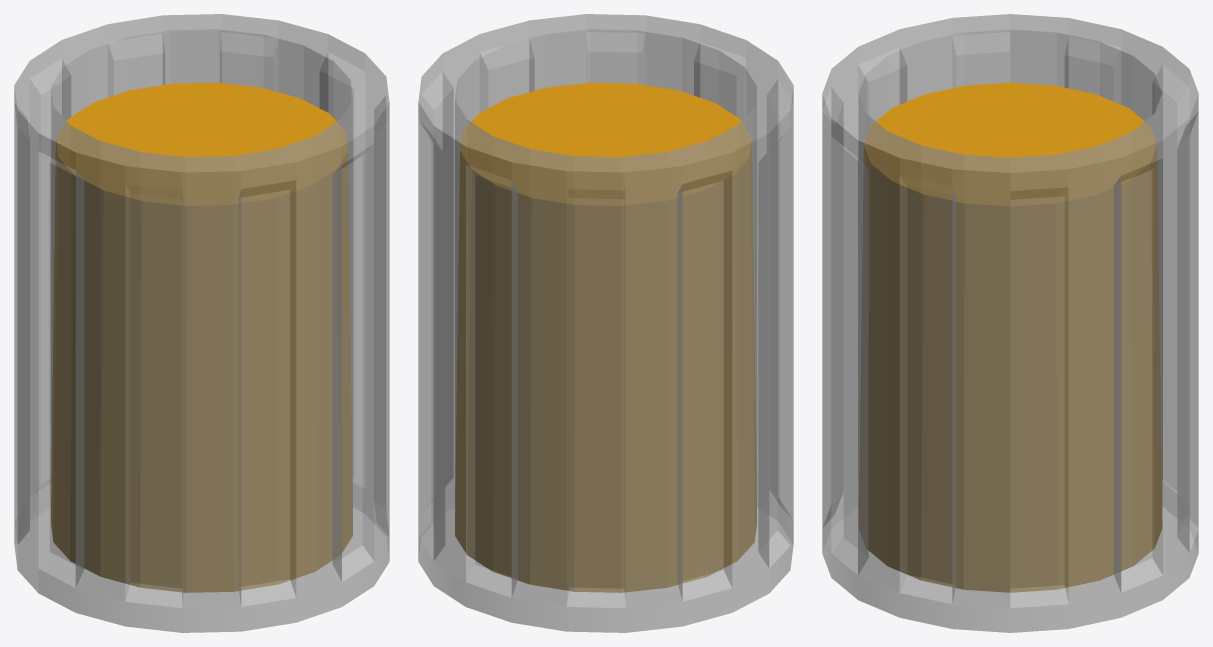
Rendered from Beer.fbx.
3 renders of one model, left to right at view 1: azimuth 30°, elevation 25°; view 2: azimuth 150°, elevation 25°; view 3: azimuth 270°, elevation 25°, orthographic.
Parts seen in each view (by area): view 1: pCylinder1; view 2: pCylinder1; view 3: pCylinder1.
Boxes of the visible parts, box(x1,y1,x2,y2) form: pCylinder1: box(14, 14, 389, 632); pCylinder1: box(418, 14, 793, 632); pCylinder1: box(822, 14, 1198, 632).
Bounding box in the file's own units: 2 × 2.69 × 2.
